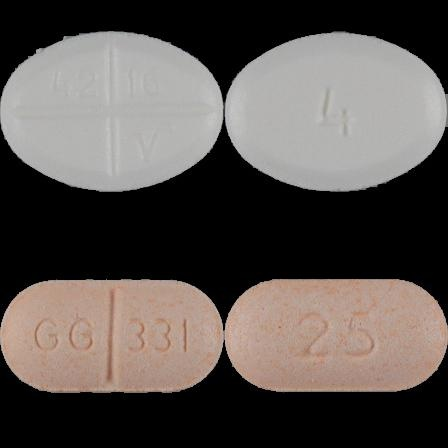68788-9218: (0, 0, 224, 224)
